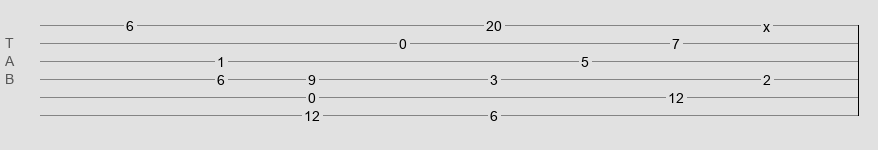0: (308, 90, 316, 100), (399, 36, 407, 46)
1: (217, 54, 225, 64)
12: (304, 108, 320, 118), (668, 90, 684, 100)
2: (763, 72, 771, 82)
20: (486, 18, 502, 28)
3: (490, 72, 498, 82)
5: (581, 54, 589, 64)
6: (126, 18, 134, 28), (217, 72, 225, 82), (490, 108, 498, 118)
7: (672, 36, 680, 46)
9: (308, 72, 316, 82)
x: (763, 19, 770, 27)
